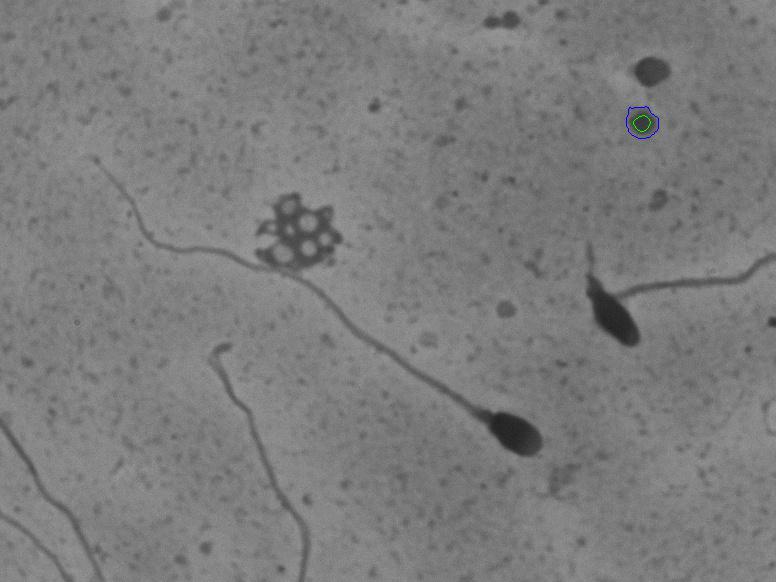Abnormal: (569, 213, 761, 378)
Normal: (70, 139, 552, 467)
